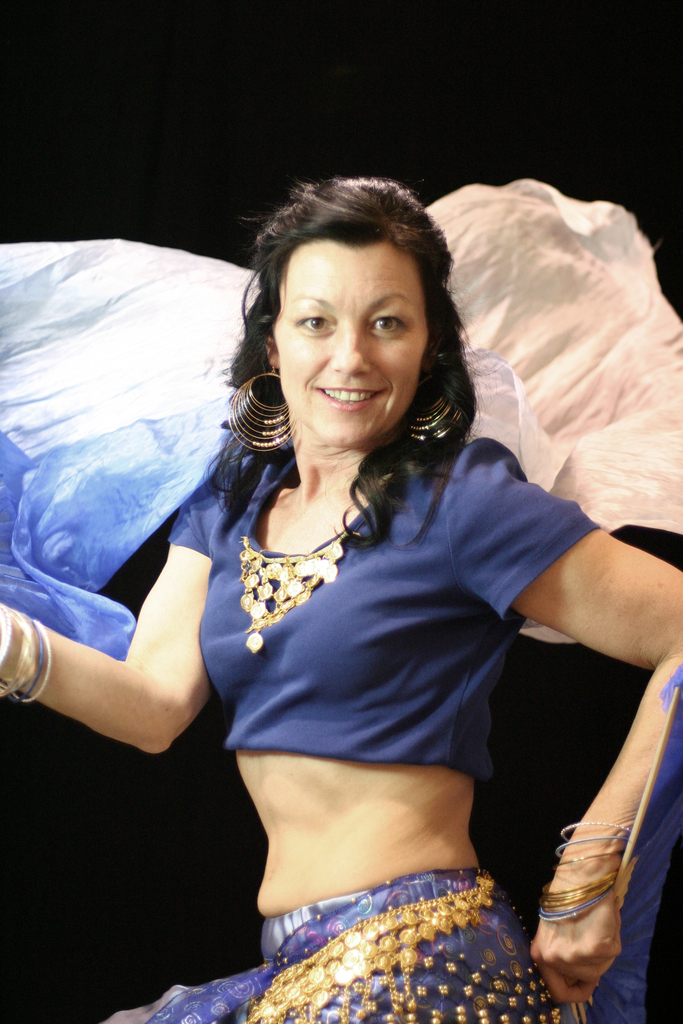Human_hand: (541, 787, 639, 990)
